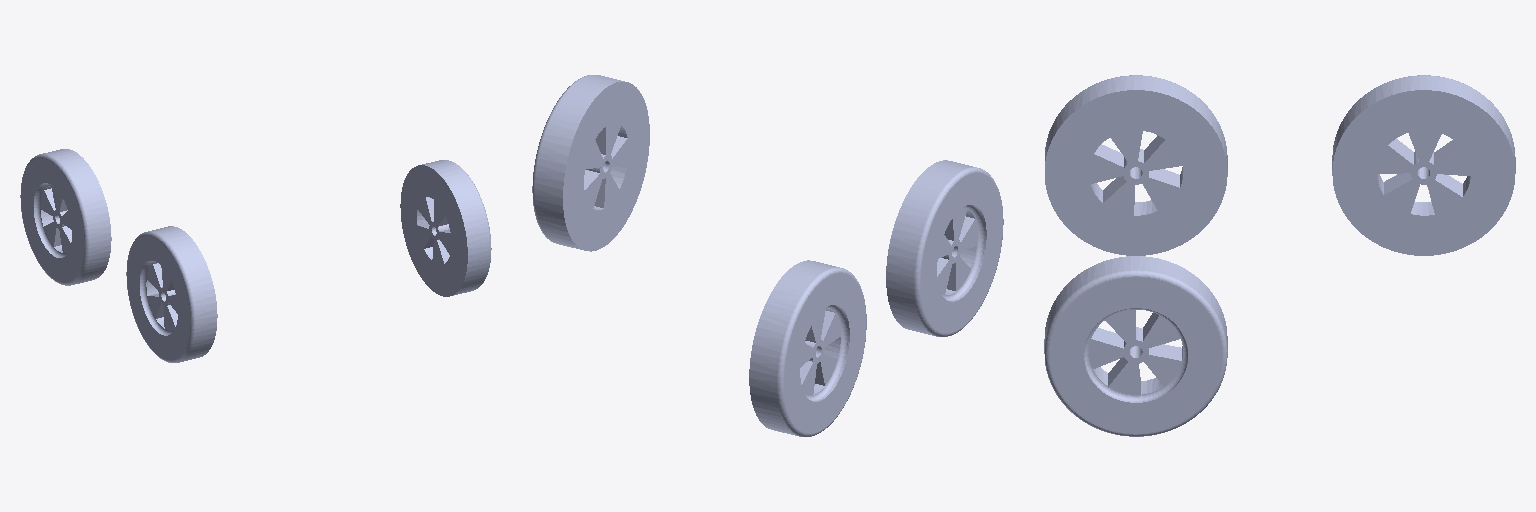
The robot description file, URDF, robot "urdf11":
<?xml version="1.0" encoding="utf-8"?>
<!-- This URDF was automatically created by SolidWorks to URDF Exporter! Originally created by [author] ([email redacted]) 
     Commit Version: 1.6.0-1-g15f4949  Build Version: 1.6.7594.29634
     For more information, please see http://wiki.ros.org/sw_urdf_exporter -->
<robot
  name="urdf11">
  <link
    name="base_link">
    <inertial>
      <origin
        xyz="-1.2093E-17 0.022088 0.009928"
        rpy="0 0 0" />
      <mass
        value="0.73548" />
      <inertia
        ixx="0.0035158"
        ixy="1.0685E-18"
        ixz="1.8809E-21"
        iyy="0.0018588"
        iyz="5.1248E-06"
        izz="0.0053257" />
    </inertial>
    <visual>
      <origin
        xyz="0 0 0"
        rpy="0 0 0" />
      <geometry>
        <mesh
          filename="package://urdf11/meshes/base_link.STL" />
      </geometry>
      <material
        name="">
        <color
          rgba="0.79216 0.81961 0.93333 1" />
      </material>
    </visual>
    <collision>
      <origin
        xyz="0 0 0"
        rpy="0 0 0" />
      <geometry>
        <mesh
          filename="package://urdf11/meshes/base_link.STL" />
      </geometry>
    </collision>
  </link>
  <link
    name="RF">
    <inertial>
      <origin
        xyz="0 5.2042E-18 -0.0078272"
        rpy="0 0 0" />
      <mass
        value="0.048944" />
      <inertia
        ixx="1.7662E-05"
        ixy="-8.2275E-22"
        ixz="-3.544E-22"
        iyy="1.7662E-05"
        iyz="1.7026E-22"
        izz="3.3601E-05" />
    </inertial>
    <visual>
      <origin
        xyz="0 0 0"
        rpy="0 0 0" />
      <geometry>
        <mesh
          filename="package://urdf11/meshes/RF.STL" />
      </geometry>
      <material
        name="">
        <color
          rgba="0.79216 0.81961 0.93333 1" />
      </material>
    </visual>
    <collision>
      <origin
        xyz="0 0 0"
        rpy="0 0 0" />
      <geometry>
        <mesh
          filename="package://urdf11/meshes/RF.STL" />
      </geometry>
    </collision>
  </link>
  <joint
    name="RFJ"
    type="continuous">
    <origin
      xyz="0.09 0.05 0.01"
      rpy="-1.5708 0 -1.5708" />
    <parent
      link="base_link" />
    <child
      link="RF" />
    <axis
      xyz="0 0 0" />
  </joint>
  <link
    name="RB">
    <inertial>
      <origin
        xyz="0 3.4694E-18 -0.0078272"
        rpy="0 0 0" />
      <mass
        value="0.048944" />
      <inertia
        ixx="1.7662E-05"
        ixy="-6.7995E-22"
        ixz="3.1732E-23"
        iyy="1.7662E-05"
        iyz="1.522E-22"
        izz="3.3601E-05" />
    </inertial>
    <visual>
      <origin
        xyz="0 0 0"
        rpy="0 0 0" />
      <geometry>
        <mesh
          filename="package://urdf11/meshes/RB.STL" />
      </geometry>
      <material
        name="">
        <color
          rgba="0.79216 0.81961 0.93333 1" />
      </material>
    </visual>
    <collision>
      <origin
        xyz="0 0 0"
        rpy="0 0 0" />
      <geometry>
        <mesh
          filename="package://urdf11/meshes/RB.STL" />
      </geometry>
    </collision>
  </link>
  <joint
    name="RBJ"
    type="continuous">
    <origin
      xyz="0.09 -0.06 0.01"
      rpy="-1.5708 0 -1.5708" />
    <parent
      link="base_link" />
    <child
      link="RB" />
    <axis
      xyz="0 0 0" />
  </joint>
  <link
    name="LF">
    <inertial>
      <origin
        xyz="-3.4694E-18 -6.9389E-18 0.0078272"
        rpy="0 0 0" />
      <mass
        value="0.048944" />
      <inertia
        ixx="1.7662E-05"
        ixy="0"
        ixz="4.3962E-22"
        iyy="1.7662E-05"
        iyz="3.1538E-22"
        izz="3.3601E-05" />
    </inertial>
    <visual>
      <origin
        xyz="0 0 0"
        rpy="0 0 0" />
      <geometry>
        <mesh
          filename="package://urdf11/meshes/LF.STL" />
      </geometry>
      <material
        name="">
        <color
          rgba="0.79216 0.81961 0.93333 1" />
      </material>
    </visual>
    <collision>
      <origin
        xyz="0 0 0"
        rpy="0 0 0" />
      <geometry>
        <mesh
          filename="package://urdf11/meshes/LF.STL" />
      </geometry>
    </collision>
  </link>
  <joint
    name="LFJ"
    type="continuous">
    <origin
      xyz="-0.09 0.05 0.01"
      rpy="1.5708 0.91772 1.5708" />
    <parent
      link="base_link" />
    <child
      link="LF" />
    <axis
      xyz="0 0 0" />
  </joint>
  <link
    name="LB">
    <inertial>
      <origin
        xyz="0 -6.9389E-18 0.0078272"
        rpy="0 0 0" />
      <mass
        value="0.048944" />
      <inertia
        ixx="1.7662E-05"
        ixy="2.5411E-21"
        ixz="6.8982E-22"
        iyy="1.7662E-05"
        iyz="-2.2435E-23"
        izz="3.3601E-05" />
    </inertial>
    <visual>
      <origin
        xyz="0 0 0"
        rpy="0 0 0" />
      <geometry>
        <mesh
          filename="package://urdf11/meshes/LB.STL" />
      </geometry>
      <material
        name="">
        <color
          rgba="0.79216 0.81961 0.93333 1" />
      </material>
    </visual>
    <collision>
      <origin
        xyz="0 0 0"
        rpy="0 0 0" />
      <geometry>
        <mesh
          filename="package://urdf11/meshes/LB.STL" />
      </geometry>
    </collision>
  </link>
  <joint
    name="LBJ"
    type="continuous">
    <origin
      xyz="-0.09 -0.06 0.01"
      rpy="1.5708 -0.58406 1.5708" />
    <parent
      link="base_link" />
    <child
      link="LB" />
    <axis
      xyz="0 0 0" />
  </joint>
</robot>

--- Render facts (derived) ---
The picture shows the robot from 3 angles, left to right: view 1: azimuth 30°, elevation 25°; view 2: azimuth 150°, elevation 25°; view 3: azimuth 270°, elevation 25°; orthographic projection.
Model urdf11 with 5 links and 4 joints (4 continuous), rooted at base_link, posed every joint at zero.
Links seen in each view (by area): view 1: LB, RB, LF; view 2: LF, RB, LB; view 3: LF, RB, LB.
Boxes of the visible links, box(x1,y1,x2,y2) form: LB: box(126, 226, 217, 362); RB: box(400, 160, 491, 296); LF: box(20, 149, 111, 285); LF: box(749, 260, 866, 436); RB: box(532, 75, 649, 251); LB: box(886, 160, 1003, 336); LF: box(1332, 75, 1515, 255); RB: box(1044, 256, 1227, 436); LB: box(1045, 75, 1227, 255).
Bounding box of the posed robot: 0.18 × 0.18 × 0.07 m (x, y, z).
Meshes: 5 distinct files referenced, 3 mesh visuals loaded (3 binary STL); not drawn: 2 (reference not matched to a file when rendering).